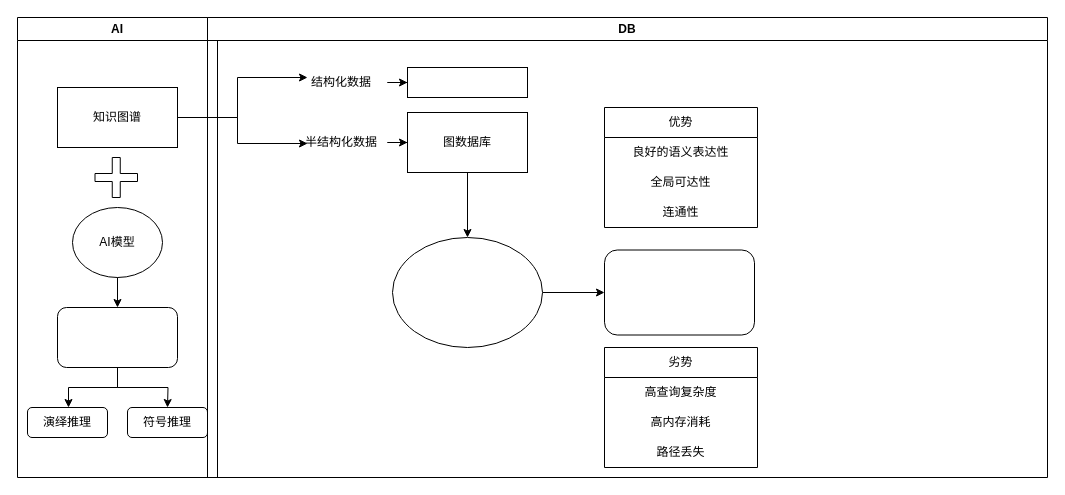
Some shapes in this 1065 by 495 pixel diagram are drawn without their labels. The shapes that lost their labels are listed below. From the top down, each one's box as (x1, y1, x2, y2) in pixels, then its label:
(406, 66, 528, 98): 关系型数据库
(392, 236, 542, 348): 图模式匹配 复杂查询
(604, 249, 754, 335): 克林闭包
(56, 306, 178, 368): 推理
